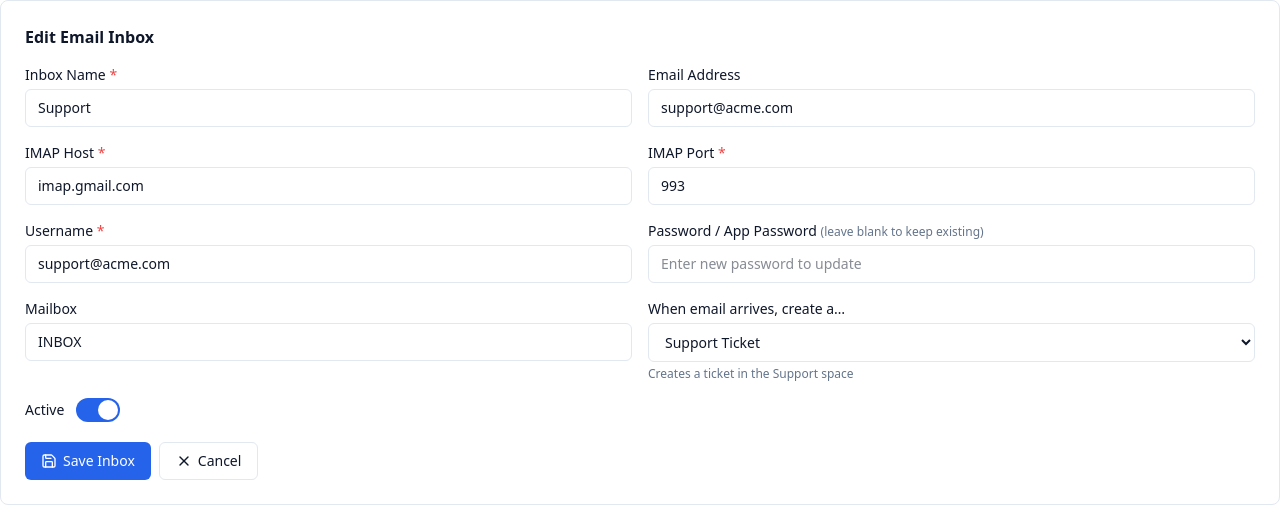
Test: EmailInboxForm › shows saving state while submitting
Click the button with test id "inbox-save-btn" at (88, 461), box left=25, top=442, right=151, bottom=480
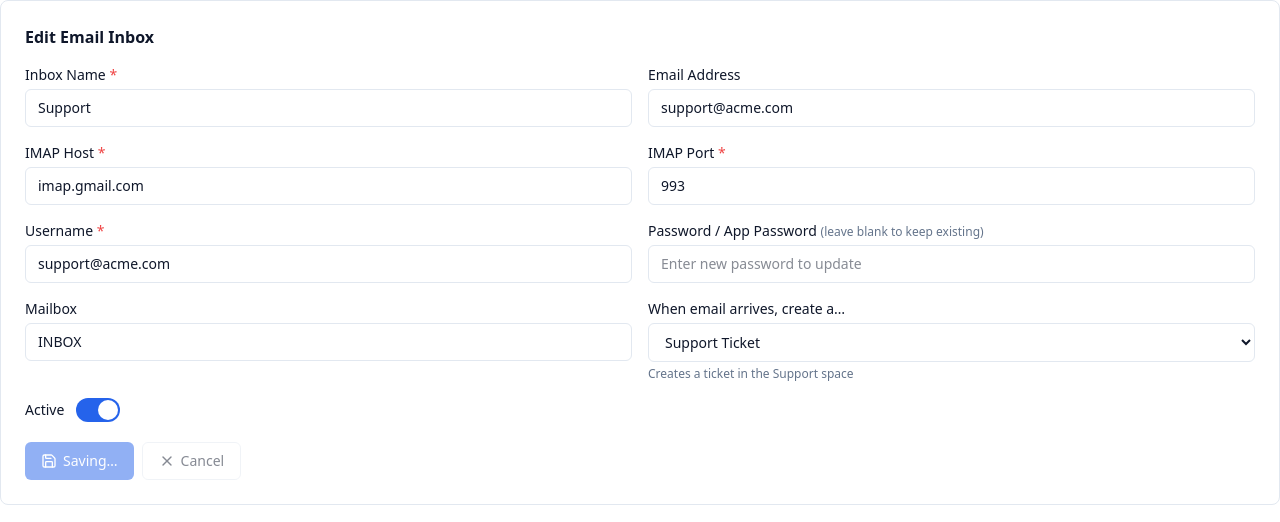
Result: the button with test id "inbox-save-btn" reads "Saving…" at left=25, top=442, right=134, bottom=480
